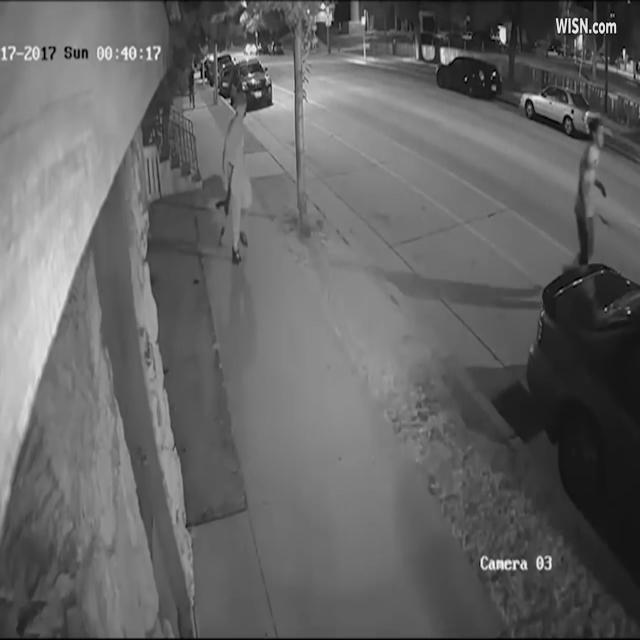Weapon: (202, 159, 250, 250)
